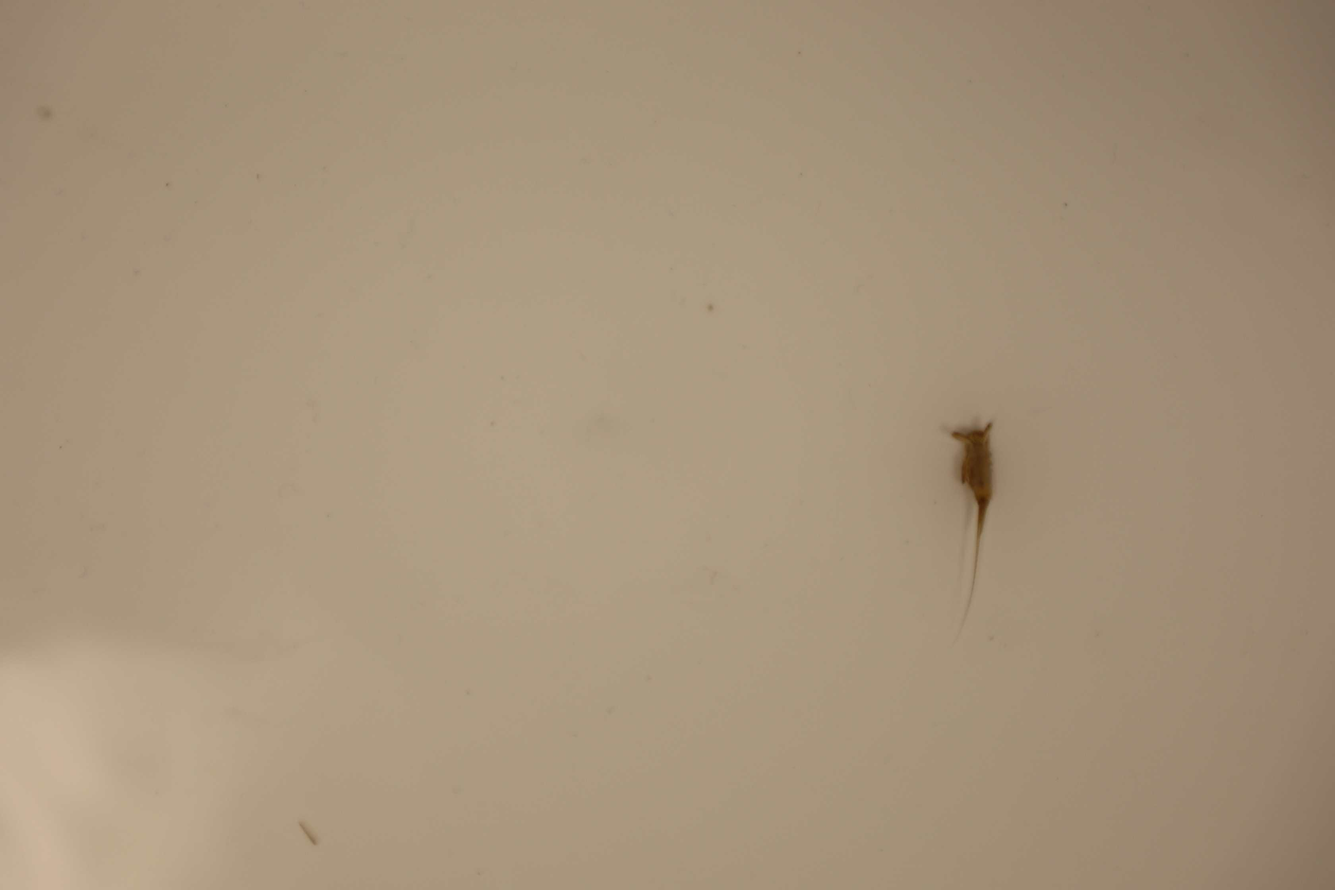Mayfly: (937, 415, 1004, 635)
